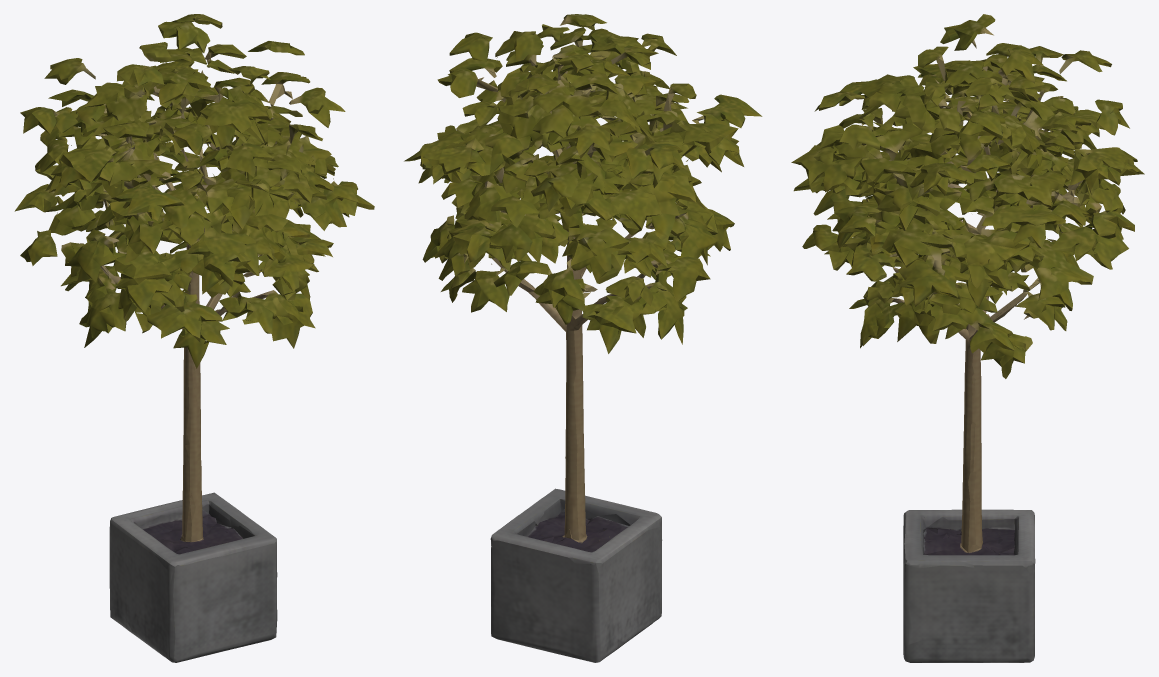
Rendered from planter-tree.glb.
3 renders of one model, left to right at view 1: azimuth 30°, elevation 25°; view 2: azimuth 150°, elevation 25°; view 3: azimuth 270°, elevation 25°, orthographic. The views are drawn at different scales.
Visible parts, largest first — view 1: mes_placement; view 2: mes_placement; view 3: mes_placement.
Part boxes in pixels (x1,y1,x2,y2): mes_placement: (14,14,374,662); mes_placement: (404,14,762,662); mes_placement: (791,14,1144,662).
Size of the model in its own units: 1.54 by 2.9 by 1.52.
1 material, 1 textured.
